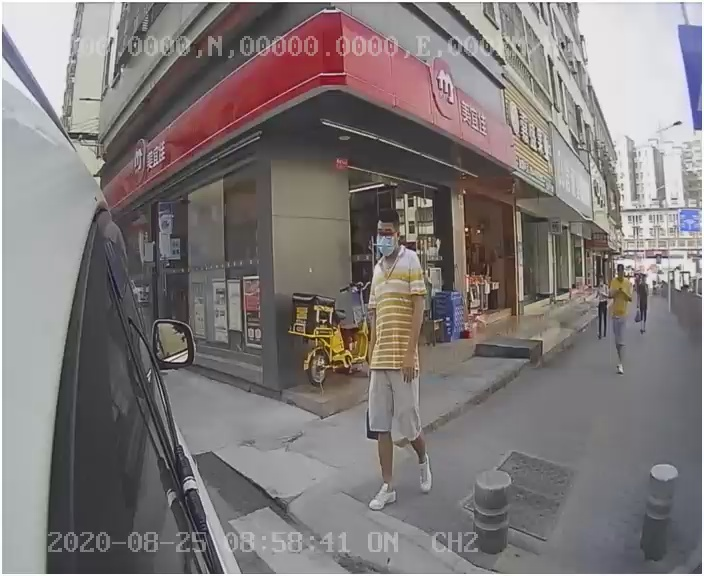person: (332, 207, 450, 515)
